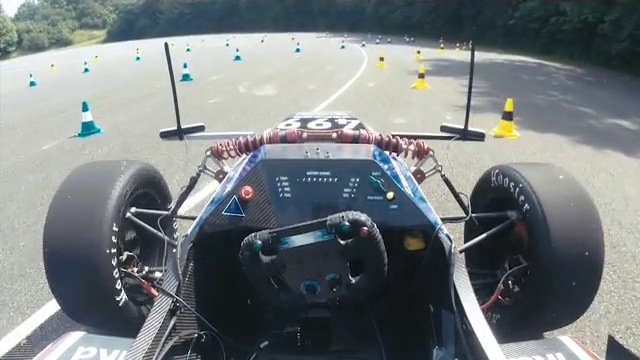Cone: (490, 96, 525, 140), (78, 100, 100, 139), (413, 63, 432, 89), (179, 63, 193, 84)
